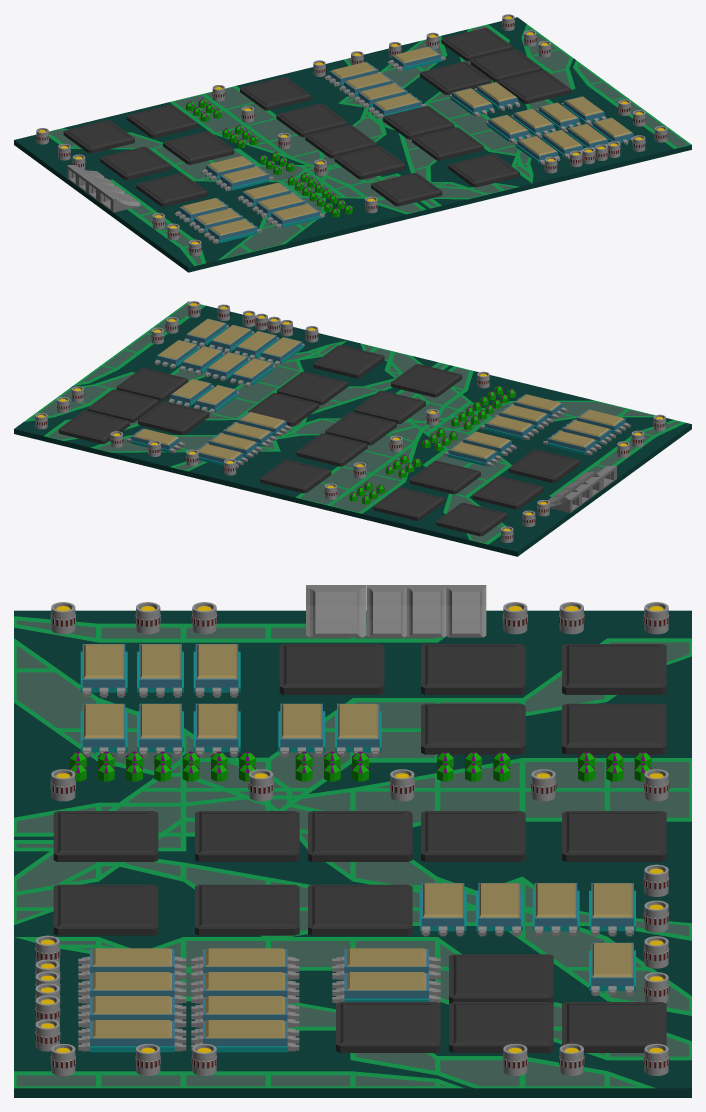
The picture shows the model from 3 angles, top to bottom: view 1: azimuth 30°, elevation 25°; view 2: azimuth 150°, elevation 25°; view 3: azimuth 270°, elevation 25°; orthographic projection. The views are drawn at different scales.
Parts seen in each view (by area): view 1: Cube.073; view 2: Cube.073; view 3: Cube.073.
Boxes of the visible parts, x1,y1,x2,y2 form: Cube.073: (14,14,691,272); Cube.073: (14,301,691,556); Cube.073: (14,585,691,1097).
Bounding box in the file's own units: 4000 × 138 × 2400.
